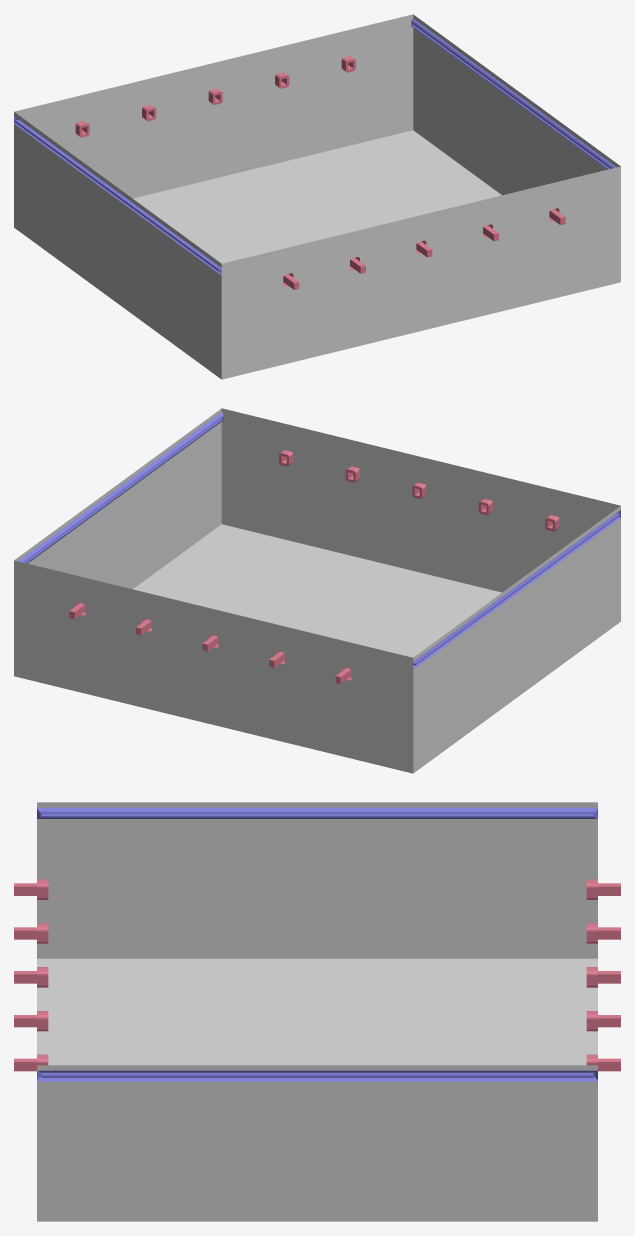
Rendered from Big_Trap.fbx.
The picture shows the model from 3 angles, top to bottom: view 1: azimuth 30°, elevation 25°; view 2: azimuth 150°, elevation 25°; view 3: azimuth 270°, elevation 25°; orthographic projection. The views are drawn at different scales.
Visible parts, largest first — view 1: Cube.006; view 2: Cube.006; view 3: Cube.006.
Boxes of the visible parts, box(x1,y1,x2,y2) form: Cube.006: box(14, 14, 620, 379); Cube.006: box(14, 408, 620, 773); Cube.006: box(14, 802, 620, 1221).
Bounding box in the file's own units: 1001 × 277 × 973.
